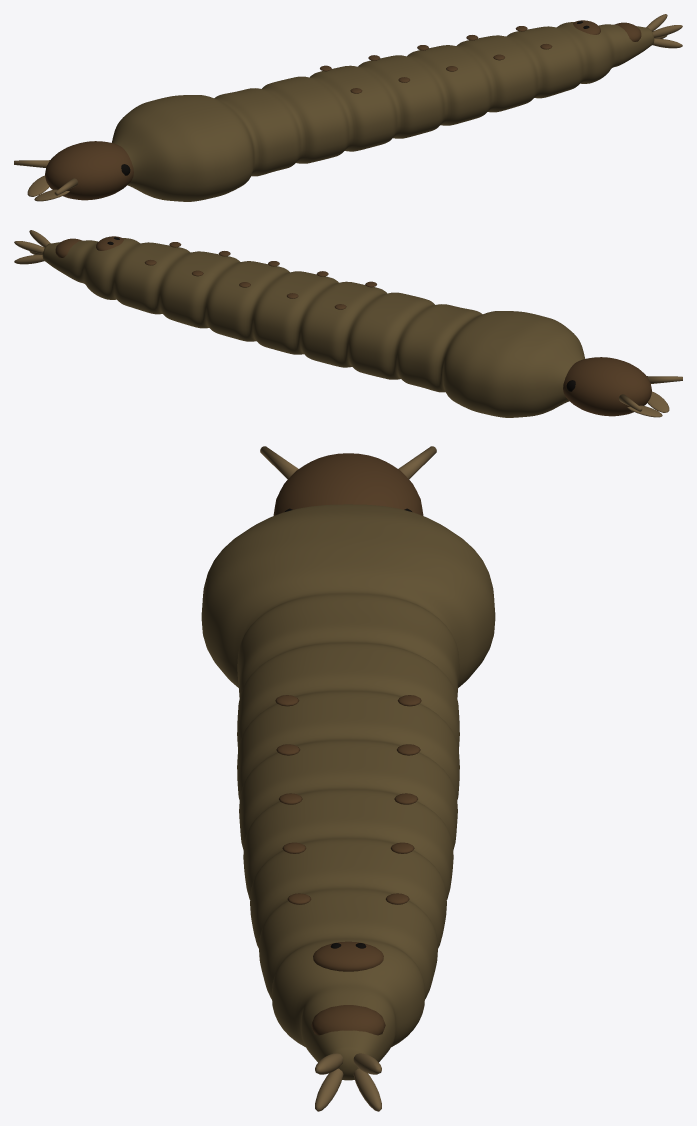
Rendered from anopheles_larva.obj.
3 views of the same model, one above another, from view 1: azimuth 30°, elevation 25°; view 2: azimuth 150°, elevation 25°; view 3: azimuth 270°, elevation 25° (orthographic). The views are drawn at different scales.
Visible parts, largest first — view 1: Anopheles_larva_L4; view 2: Anopheles_larva_L4; view 3: Anopheles_larva_L4.
Boxes of the visible parts, x1=… form: Anopheles_larva_L4: x1=14, y1=14, x2=682, y2=201; Anopheles_larva_L4: x1=14, y1=230, x2=682, y2=417; Anopheles_larva_L4: x1=201, y1=446, x2=495, y2=1111.
Size of the model in its own units: 6.14 by 0.7104 by 1.21.
